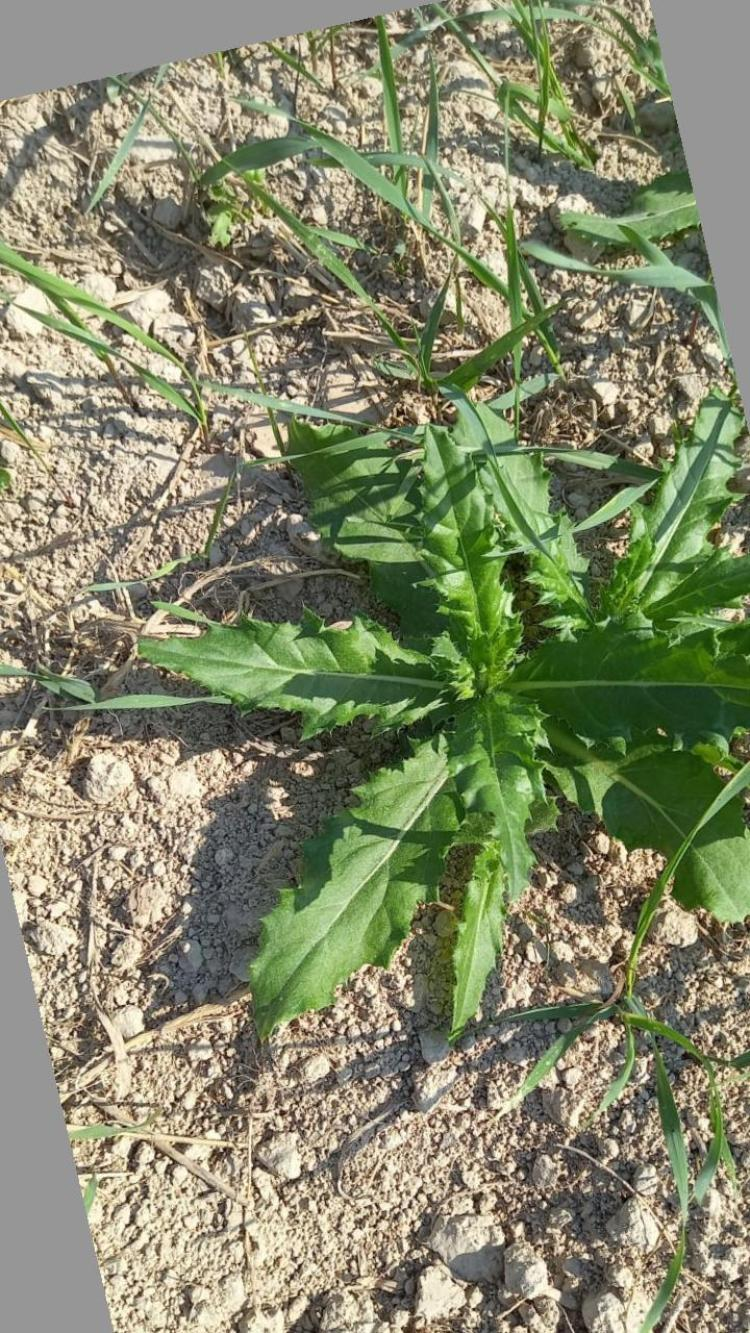osot: (144, 377, 750, 1046)
